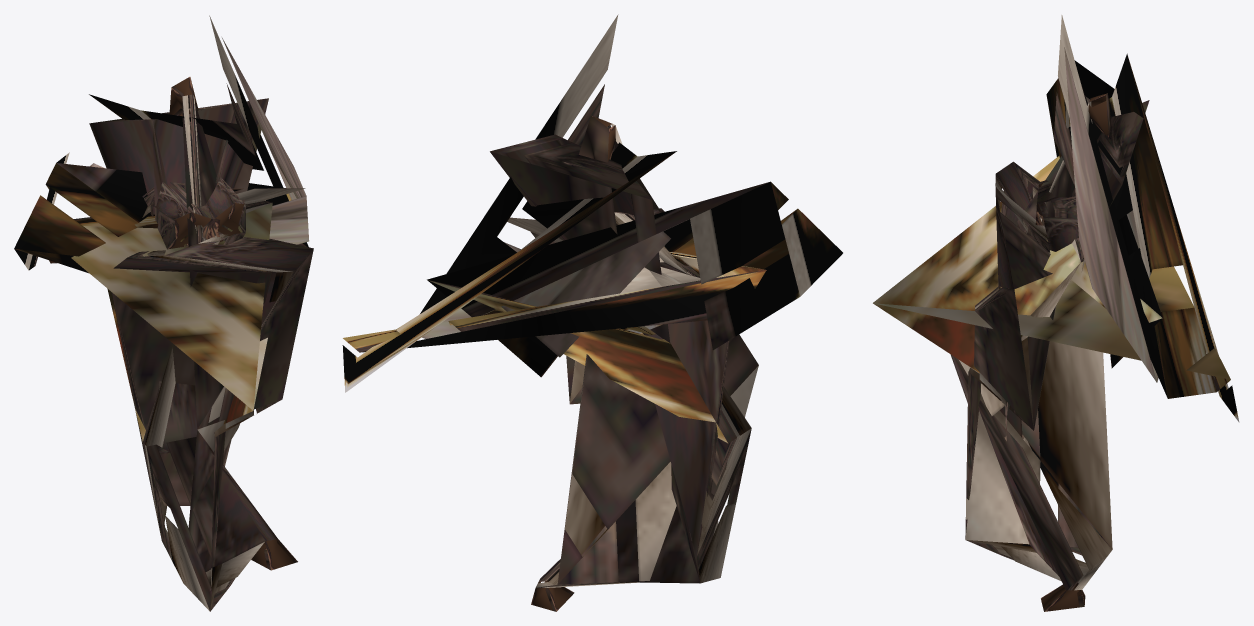
The picture shows the model from 3 angles, left to right: view 1: azimuth 30°, elevation 25°; view 2: azimuth 150°, elevation 25°; view 3: azimuth 270°, elevation 25°; orthographic projection. The views are drawn at different scales.
Parts seen in each view (by area): view 1: T1L4M001_4; view 2: T1L4M001_4; view 3: T1L4M001_4.
Boxes of the visible parts, x1,y1,x2,y2 form: T1L4M001_4: (14, 15, 313, 611); T1L4M001_4: (342, 14, 842, 611); T1L4M001_4: (873, 15, 1239, 611).
Size of the model in its own units: 0.7961 by 1.14 by 0.676.
